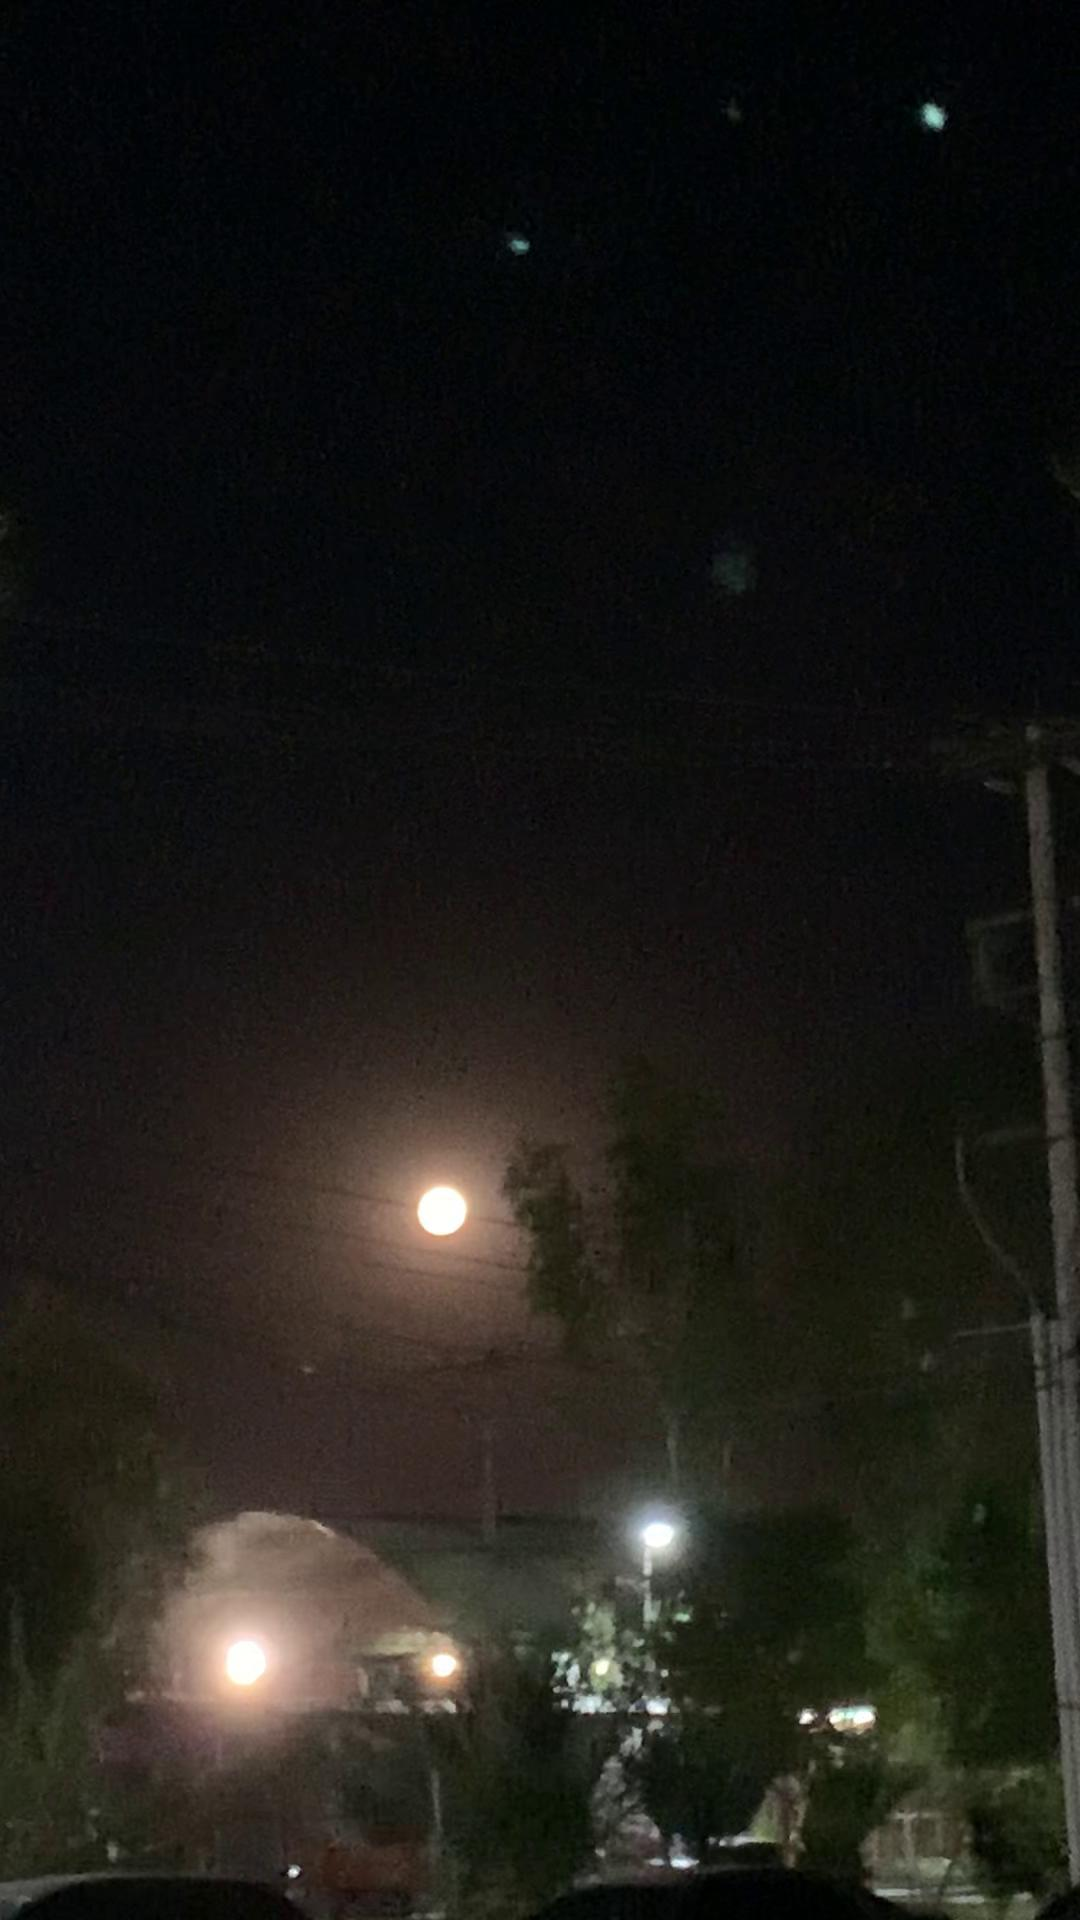moon: (389, 1163, 479, 1240)
